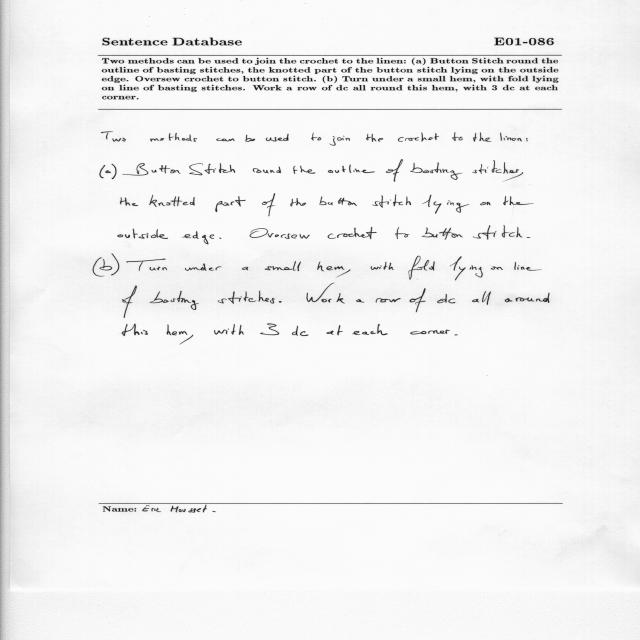word: (473, 160, 524, 182), (410, 162, 463, 180), (150, 291, 199, 310), (423, 195, 470, 214), (306, 283, 345, 304), (450, 257, 483, 281), (473, 225, 522, 240), (218, 291, 274, 304), (249, 228, 310, 239), (409, 256, 435, 280), (328, 227, 377, 239), (93, 254, 119, 276), (189, 163, 235, 175), (149, 195, 195, 207), (118, 228, 168, 239), (372, 194, 411, 208), (422, 227, 463, 240), (317, 262, 350, 278), (167, 325, 193, 345), (215, 196, 246, 212), (126, 259, 166, 271), (123, 285, 137, 318), (505, 293, 550, 303), (328, 164, 375, 173), (183, 231, 215, 244), (398, 132, 439, 142), (352, 324, 388, 335), (386, 159, 403, 182), (410, 288, 426, 312), (319, 196, 357, 206), (150, 133, 197, 141), (265, 261, 301, 271), (123, 163, 149, 176), (122, 324, 148, 336), (262, 194, 275, 217), (503, 196, 534, 205), (472, 291, 491, 305), (100, 164, 117, 179), (514, 262, 542, 271), (101, 132, 126, 142), (260, 324, 279, 335), (330, 136, 350, 146), (410, 330, 450, 335), (500, 133, 522, 142), (159, 165, 181, 174), (473, 132, 492, 142), (266, 134, 289, 142), (293, 166, 316, 174), (326, 325, 343, 335), (253, 167, 281, 173), (395, 227, 409, 239), (185, 263, 206, 271), (228, 324, 243, 335), (121, 197, 139, 206), (438, 294, 456, 303), (292, 326, 308, 336), (366, 133, 383, 142), (290, 198, 306, 206), (376, 298, 401, 303), (379, 262, 394, 270), (452, 132, 463, 141), (245, 134, 255, 142), (311, 133, 321, 141), (216, 138, 235, 142), (215, 330, 228, 335), (209, 267, 221, 271), (491, 266, 503, 270), (509, 169, 519, 173), (371, 266, 379, 270), (356, 299, 364, 303), (480, 202, 490, 205), (162, 267, 167, 271), (242, 267, 248, 270), (152, 170, 157, 172), (526, 138, 528, 141), (279, 301, 282, 303), (527, 237, 531, 238), (454, 335, 458, 336), (219, 238, 221, 239)
